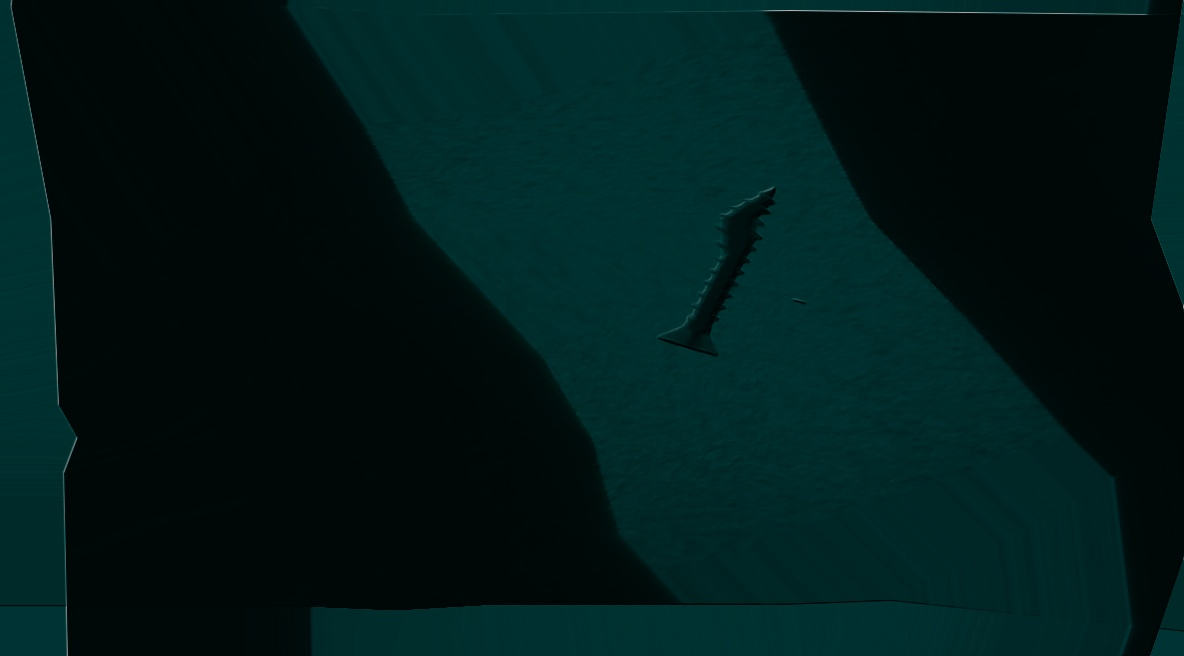S001: (538, 168, 896, 389)
